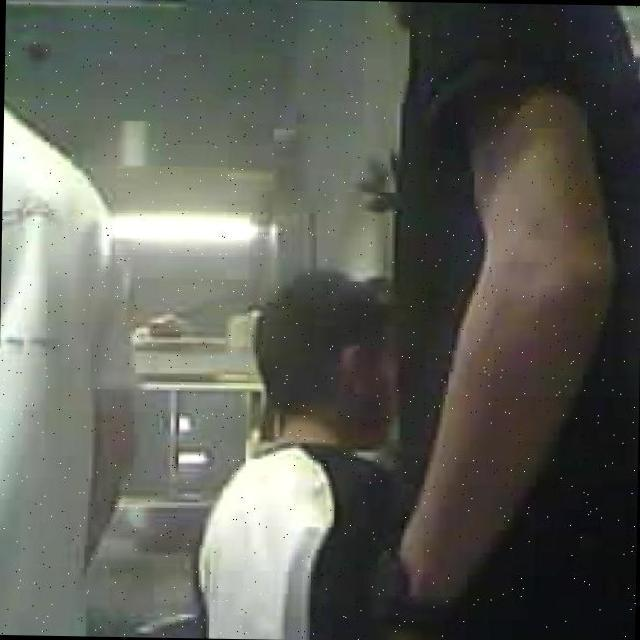person: (373, 1, 640, 640), (193, 265, 412, 640), (0, 89, 141, 635)
